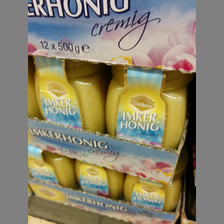honey: (107, 64, 190, 148), (32, 57, 106, 137), (28, 145, 78, 195), (125, 173, 182, 213), (74, 160, 124, 198)
